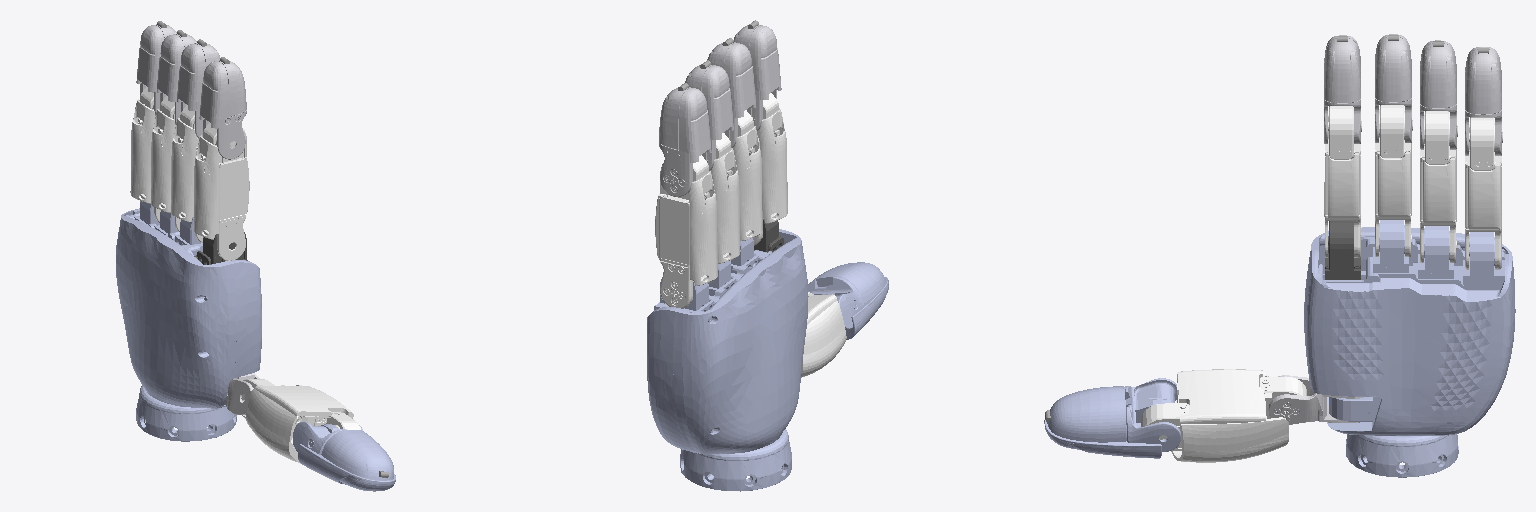
robot.urdf — panda_xhand_hand_left:
<?xml version='1.0' encoding='utf-8'?>
<robot name="panda_xhand_hand_left">

  
  <link name="base_link" />
  <joint name="left_hand_fixed_joint" type="fixed">
    <origin xyz="0 0 0" rpy="3.141592654 5.358979317e-08 -1.570802654" />
    <parent link="base_link" />
    <child link="left_hand_link" />
  </joint>
  <link name="left_hand_link">
    <inertial>
      <origin xyz="-0.007139696005 -0.003422435933 -0.05848067312" rpy="0 0 0" />
      <mass value="0.530025137189824" />
      <inertia ixx="0.000480675299127658" ixy="5.707743504e-06" ixz="-3.94757992682007E-05" iyy="0.000677544052393642" iyz="-4.84926198e-06" izz="0.000346610500441846" />
    </inertial>
    <visual>
      <origin xyz="0 0 0" rpy="0 0 0" />
      <geometry>
        <mesh filename="../xhand_hand_meshes/left_hand_link.STL" />
      </geometry>
      <material name="">
        <color rgba="0.792156862745098 0.819607843137255 0.933333333333333 1" />
      </material>
    </visual>
    <collision>
      <origin xyz="0 0 0" rpy="0 0 0" />
      <geometry>
        <mesh filename="../xhand_hand_meshes/left_hand_link.STL" />
      </geometry>
    </collision>
  </link>
  <link name="left_hand_ee_link">
    <inertial>
      <origin xyz="0 0 0" rpy="0 0 0" />
      <mass value="3.53429173528852E-08" />
      <inertia ixx="3.97607820219958E-14" ixy="-4.749097464e-29" ixz="1.39310580749999E-28" iyy="9.35114688295087E-14" iyz="-1.370371595e-41" izz="9.35114688295087E-14" />
    </inertial>
    <visual>
      <origin xyz="0 0 0" rpy="0 0 0" />
      <geometry>
        <mesh filename="../xhand_hand_meshes/left_hand_ee_link.STL" />
      </geometry>
      <material name="">
        <color rgba="0.698039215686274 0.698039215686274 0.698039215686274 1" />
      </material>
    </visual>
    <collision>
      <origin xyz="0 0 0" rpy="0 0 0" />
      <geometry>
        <mesh filename="../xhand_hand_meshes/left_hand_ee_link.STL" />
      </geometry>
    </collision>
  </link>
  <joint name="left_hand_ee_joint" type="fixed">
    <origin xyz="0 0 -0.065" rpy="0 0 0" />
    <parent link="left_hand_link" />
    <child link="left_hand_ee_link" />
    <axis xyz="0 0 0" />
  </joint>
  <link name="left_hand_thumb_bend_link">
    <inertial>
      <origin xyz="0.01452908013 0.000901302744 -0.0001279257288" rpy="0 0 0" />
      <mass value="0.0098552942780609" />
      <inertia ixx="5.42973961076784E-07" ixy="-1.169737782e-08" ixz="-3.74480550329303E-08" iyy="1.29129949885877E-06" iyz="-1.549186672e-09" izz="1.30457450474268E-06" />
    </inertial>
    <visual>
      <origin xyz="0 0 0" rpy="0 0 0" />
      <geometry>
        <mesh filename="../xhand_hand_meshes/left_hand_thumb_bend_link.STL" />
      </geometry>
      <material name="">
        <color rgba="0.890196078431372 0.890196078431372 0.913725490196078 1" />
      </material>
    </visual>
    <collision>
      <origin xyz="0 0 0" rpy="0 0 0" />
      <geometry>
        <mesh filename="../xhand_hand_meshes/left_hand_thumb_bend_link.STL" />
      </geometry>
    </collision>
  </link>
  <joint name="left_hand_thumb_bend_joint" type="revolute">
    <origin xyz="0.0228 -0.0095 -0.0305" rpy="0 0 0" />
    <parent link="left_hand_link" />
    <child link="left_hand_thumb_bend_link" />
    <axis xyz="0 0 -1" />
    <limit lower="0" upper="1.83" effort="1.1" velocity="8.63" />
    <dynamics damping="1" friction="1" />
  </joint>
  <link name="left_hand_thumb_rota_link1">
    <inertial>
      <origin xyz="0.02792371607 0.0001276028681 -0.0002725773618" rpy="0 0 0" />
      <mass value="0.153264803291678" />
      <inertia ixx="2.4165365258545E-05" ixy="6.631973585e-06" ixz="1.94475216115701E-07" iyy="4.72108607465942E-05" iyz="1.019315614e-07" izz="5.62288901300273E-05" />
    </inertial>
    <visual>
      <origin xyz="0 0 0" rpy="0 0 0" />
      <geometry>
        <mesh filename="../xhand_hand_meshes/left_hand_thumb_rota_link1.STL" />
      </geometry>
      <material name="">
        <color rgba="1 1 1 1" />
      </material>
    </visual>
    <collision>
      <origin xyz="0 0 0" rpy="0 0 0" />
      <geometry>
        <mesh filename="../xhand_hand_meshes/left_hand_thumb_rota_link1.STL" />
      </geometry>
    </collision>
  </link>
  <joint name="left_hand_thumb_rota_joint1" type="revolute">
    <origin xyz="0.028599 -0.0083177 0.00178" rpy="-0.2618 0 -0.0407" />
    <parent link="left_hand_thumb_bend_link" />
    <child link="left_hand_thumb_rota_link1" />
    <axis xyz="0 1 0" />
    <limit lower="-1.05" upper="1.57" effort="1.1" velocity="8.63" />
    <dynamics damping="1" friction="1" />
  </joint>
  <link name="left_hand_thumb_rota_link2">
    <inertial>
      <origin xyz="0.02246971871 0.0006913422256 0.003022320469" rpy="0 0 0" />
      <mass value="0.0374003730407777" />
      <inertia ixx="3.98187483395831E-06" ixy="4.946362977e-07" ixz="1.48034880030095E-07" iyy="8.21760971089748E-06" iyz="5.853881022e-08" izz="9.53856476569885E-06" />
    </inertial>
    <visual>
      <origin xyz="0 0 0" rpy="0 0 0" />
      <geometry>
        <mesh filename="../xhand_hand_meshes/left_hand_thumb_rota_link2.STL" />
      </geometry>
      <material name="">
        <color rgba="0.792156862745098 0.819607843137255 0.933333333333333 1" />
      </material>
    </visual>
    <collision>
      <origin xyz="0 0 0" rpy="0 0 0" />
      <geometry>
        <mesh filename="../xhand_hand_meshes/left_hand_thumb_rota_link2.STL" />
      </geometry>
    </collision>
  </link>
  <joint name="left_hand_thumb_rota_joint2" type="revolute">
    <origin xyz="0.0553 0 0" rpy="0 0 0" />
    <parent link="left_hand_thumb_rota_link1" />
    <child link="left_hand_thumb_rota_link2" />
    <axis xyz="0 1 0" />
    <limit lower="-0.175" upper="1.83" effort="0.4" velocity="14.38" />
    <dynamics damping="1" friction="1" />
  </joint>
  <link name="left_hand_thumb_rota_tip">
    <inertial>
      <origin xyz="8.286807351e-10 8.244566738e-09 0" rpy="0 0 0" />
      <mass value="3.53429173528852E-08" />
      <inertia ixx="9.35114688295028E-14" ixy="-1.781686322e-20" ixz="5.02898827078395E-30" iyy="3.97607820220018E-14" iyz="6.547545513e-29" izz="9.35114688295088E-14" />
    </inertial>
    <visual>
      <origin xyz="0 0 0" rpy="0 0 0" />
      <geometry>
        <mesh filename="../xhand_hand_meshes/left_hand_thumb_rota_tip.STL" />
      </geometry>
      <material name="">
        <color rgba="0.698039215686274 0.698039215686274 0.698039215686274 1" />
      </material>
    </visual>
    <collision>
      <origin xyz="0 0 0" rpy="0 0 0" />
      <geometry>
        <mesh filename="../xhand_hand_meshes/left_hand_thumb_rota_tip.STL" />
      </geometry>
    </collision>
  </link>
  <joint name="left_hand_thumb_rota_joint3" type="fixed">
    <origin xyz="0.05040245469 0 0" rpy="0 0 0" />
    <parent link="left_hand_thumb_rota_link2" />
    <child link="left_hand_thumb_rota_tip" />
    <axis xyz="0 0 0" />
  </joint>
  <link name="left_hand_index_bend_link">
    <inertial>
      <origin xyz="8.084488025e-05 -0.0006758840629 0.004208510492" rpy="0 0 0" />
      <mass value="0.0677836037392839" />
      <inertia ixx="2.16567127431793E-05" ixy="-9.291777674e-09" ixz="2.1345292815894E-07" iyy="2.09689353738481E-05" iyz="6.686769225e-07" izz="3.39593434952634E-06" />
    </inertial>
    <visual>
      <origin xyz="0 0 0" rpy="0 0 0" />
      <geometry>
        <mesh filename="../xhand_hand_meshes/left_hand_index_bend_link.STL" />
      </geometry>
      <material name="">
        <color rgba="0.43921568627451 0.43921568627451 0.43921568627451 1" />
      </material>
    </visual>
    <collision>
      <origin xyz="0 0 0" rpy="0 0 0" />
      <geometry>
        <mesh filename="../xhand_hand_meshes/left_hand_index_bend_link.STL" />
      </geometry>
    </collision>
  </link>
  <joint name="left_hand_index_bend_joint" type="revolute">
    <origin xyz="0.0265 -0.0065 -0.0899" rpy="0 0 0" />
    <parent link="left_hand_link" />
    <child link="left_hand_index_bend_link" />
    <axis xyz="0 1 0" />
    <limit lower="-0.175" upper="0.175" effort="0.4" velocity="14.38" />
    <dynamics damping="1" friction="1" />
  </joint>
  <link name="left_hand_index_rota_link1">
    <inertial>
      <origin xyz="-0.0001397695293 0.0008005173406 -0.03560385544" rpy="0 0 0" />
      <mass value="0.0630216027459696" />
      <inertia ixx="2.05187473304044E-05" ixy="-7.8020352e-09" ixz="4.29054958401514E-07" iyy="1.92422623666435E-05" iyz="-2.470283359e-07" izz="4.15027364465252E-06" />
    </inertial>
    <visual>
      <origin xyz="0 0 0" rpy="0 0 0" />
      <geometry>
        <mesh filename="../xhand_hand_meshes/left_hand_index_rota_link1.STL" />
      </geometry>
      <material name="">
        <color rgba="1 1 1 1" />
      </material>
    </visual>
    <collision>
      <origin xyz="0 0 0" rpy="0 0 0" />
      <geometry>
        <mesh filename="../xhand_hand_meshes/left_hand_index_rota_link1.STL" />
      </geometry>
    </collision>
  </link>
  <joint name="left_hand_index_joint1" type="revolute">
    <origin xyz="0 0 -0.0178" rpy="0 0 0" />
    <parent link="left_hand_index_bend_link" />
    <child link="left_hand_index_rota_link1" />
    <axis xyz="-1 0 0" />
    <limit lower="0" upper="1.92" effort="1.1" velocity="8.63" />
    <dynamics damping="1" friction="1" />
  </joint>
  <link name="left_hand_index_rota_link2">
    <inertial>
      <origin xyz="-0.0003385694092 -1.936760005e-05 -0.02313285391" rpy="0 0 0" />
      <mass value="0.0179923076356481" />
      <inertia ixx="3.01810066952146E-06" ixy="4.9212671e-10" ixz="9.0999129965313E-08" iyy="3.01983543305207E-06" iyz="-5.999000211e-08" izz="9.88538897829343E-07" />
    </inertial>
    <visual>
      <origin xyz="0 0 0" rpy="0 0 0" />
      <geometry>
        <mesh filename="../xhand_hand_meshes/left_hand_index_rota_link2.STL" />
      </geometry>
      <material name="">
        <color rgba="0.866666666666667 0.866666666666667 0.890196078431372 1" />
      </material>
    </visual>
    <collision>
      <origin xyz="0 0 0" rpy="0 0 0" />
      <geometry>
        <mesh filename="../xhand_hand_meshes/left_hand_index_rota_link2.STL" />
      </geometry>
    </collision>
  </link>
  <joint name="left_hand_index_joint2" type="revolute">
    <origin xyz="0 0 -0.0558" rpy="0 0 0" />
    <parent link="left_hand_index_rota_link1" />
    <child link="left_hand_index_rota_link2" />
    <axis xyz="-1 0 0" />
    <limit lower="0" upper="1.92" effort="0.4" velocity="14.38" />
    <dynamics damping="1" friction="1" />
  </joint>
  <link name="left_hand_index_rota_tip">
    <inertial>
      <origin xyz="0 0 0" rpy="0 0 0" />
      <mass value="3.53429173528852E-08" />
      <inertia ixx="3.97607820219958E-14" ixy="-4.318274229e-29" ixz="1.6690203866884E-29" iyy="9.35114688295087E-14" iyz="-1.378877689e-41" izz="9.35114688295087E-14" />
    </inertial>
    <visual>
      <origin xyz="0 0 0" rpy="0 0 0" />
      <geometry>
        <mesh filename="../xhand_hand_meshes/left_hand_index_rota_tip.STL" />
      </geometry>
      <material name="">
        <color rgba="0.698039215686274 0.698039215686274 0.698039215686274 1" />
      </material>
    </visual>
    <collision>
      <origin xyz="0 0 0" rpy="0 0 0" />
      <geometry>
        <mesh filename="../xhand_hand_meshes/left_hand_index_rota_tip.STL" />
      </geometry>
    </collision>
  </link>
  <joint name="left_hand_index_rota_joint3" type="fixed">
    <origin xyz="0 0 -0.0425" rpy="0 0 0" />
    <parent link="left_hand_index_rota_link2" />
    <child link="left_hand_index_rota_tip" />
    <axis xyz="0 0 0" />
  </joint>
  <link name="left_hand_mid_link1">
    <inertial>
      <origin xyz="-0.0001397694523 0.0008005169666 -0.0356038562" rpy="0 0 0" />
      <mass value="0.0630216005457211" />
      <inertia ixx="2.05187463723375E-05" ixy="-7.802084911e-09" ixz="4.29054729251827E-07" iyy="1.92422616109533E-05" iyz="-2.470278983e-07" izz="4.15027334868904E-06" />
    </inertial>
    <visual>
      <origin xyz="0 0 0" rpy="0 0 0" />
      <geometry>
        <mesh filename="../xhand_hand_meshes/left_hand_mid_link1.STL" />
      </geometry>
      <material name="">
        <color rgba="1 1 1 1" />
      </material>
    </visual>
    <collision>
      <origin xyz="0 0 0" rpy="0 0 0" />
      <geometry>
        <mesh filename="../xhand_hand_meshes/left_hand_mid_link1.STL" />
      </geometry>
    </collision>
  </link>
  <joint name="left_hand_mid_joint1" type="revolute">
    <origin xyz="0.004 -0.0065 -0.1082" rpy="0 0 0" />
    <parent link="left_hand_link" />
    <child link="left_hand_mid_link1" />
    <axis xyz="-1 0 0" />
    <limit lower="0" upper="1.92" effort="1.1" velocity="8.63" />
    <dynamics damping="1" friction="1" />
  </joint>
  <link name="left_hand_mid_link2">
    <inertial>
      <origin xyz="-0.0003385694106 -1.936760027e-05 -0.02313285391" rpy="0 0 0" />
      <mass value="0.0179923076388667" />
      <inertia ixx="3.01810066972044E-06" ixy="4.921265976e-10" ixz="9.09991296960493E-08" iyy="3.01983543347029E-06" iyz="-5.999000211e-08" izz="9.88538897954892E-07" />
    </inertial>
    <visual>
      <origin xyz="0 0 0" rpy="0 0 0" />
      <geometry>
        <mesh filename="../xhand_hand_meshes/left_hand_mid_link2.STL" />
      </geometry>
      <material name="">
        <color rgba="0.866666666666667 0.866666666666667 0.890196078431372 1" />
      </material>
    </visual>
    <collision>
      <origin xyz="0 0 0" rpy="0 0 0" />
      <geometry>
        <mesh filename="../xhand_hand_meshes/left_hand_mid_link2.STL" />
      </geometry>
    </collision>
  </link>
  <joint name="left_hand_mid_joint2" type="revolute">
    <origin xyz="0 0 -0.0558" rpy="0 0 0" />
    <parent link="left_hand_mid_link1" />
    <child link="left_hand_mid_link2" />
    <axis xyz="-1 0 0" />
    <limit lower="0" upper="1.94" effort="0.4" velocity="14.38" />
    <dynamics damping="1" friction="1" />
  </joint>
  <link name="left_hand_mid_tip">
    <inertial>
      <origin xyz="0 0 -0.0003930268892" rpy="0 0 0" />
      <mass value="3.53429173528852E-08" />
      <inertia ixx="3.97607820219958E-14" ixy="-4.69980914e-29" ixz="1.72625026613961E-29" iyy="9.35114688295087E-14" iyz="1.346322612e-30" izz="9.35114688295087E-14" />
    </inertial>
    <visual>
      <origin xyz="0 0 0" rpy="0 0 0" />
      <geometry>
        <mesh filename="../xhand_hand_meshes/left_hand_mid_tip.STL" />
      </geometry>
      <material name="">
        <color rgba="0.698039215686274 0.698039215686274 0.698039215686274 1" />
      </material>
    </visual>
    <collision>
      <origin xyz="0 0 0" rpy="0 0 0" />
      <geometry>
        <mesh filename="../xhand_hand_meshes/left_hand_mid_tip.STL" />
      </geometry>
    </collision>
  </link>
  <joint name="left_hand_mid_joint3" type="fixed">
    <origin xyz="0 0 -0.042107" rpy="0 0 0" />
    <parent link="left_hand_mid_link2" />
    <child link="left_hand_mid_tip" />
    <axis xyz="0 0 0" />
  </joint>
  <link name="left_hand_ring_link1">
    <inertial>
      <origin xyz="-0.0001397695943 0.0008005172273 -0.03560385528" rpy="0 0 0" />
      <mass value="0.0630216021699602" />
      <inertia ixx="2.05187476755252E-05" ixy="-7.80199294e-09" ixz="4.29055082722493E-07" iyy="1.92422628261764E-05" iyz="-2.470284877e-07" izz="4.15027358505553E-06" />
    </inertial>
    <visual>
      <origin xyz="0 0 0" rpy="0 0 0" />
      <geometry>
        <mesh filename="../xhand_hand_meshes/left_hand_ring_link1.STL" />
      </geometry>
      <material name="">
        <color rgba="1 1 1 1" />
      </material>
    </visual>
    <collision>
      <origin xyz="0 0 0" rpy="0 0 0" />
      <geometry>
        <mesh filename="../xhand_hand_meshes/left_hand_ring_link1.STL" />
      </geometry>
    </collision>
  </link>
  <joint name="left_hand_ring_joint1" type="revolute">
    <origin xyz="-0.016 -0.0065 -0.1052" rpy="0 0 0" />
    <parent link="left_hand_link" />
    <child link="left_hand_ring_link1" />
    <axis xyz="-1 0 0" />
    <limit lower="0" upper="1.92" effort="1.1" velocity="8.63" />
    <dynamics damping="1" friction="1" />
  </joint>
  <link name="left_hand_ring_link2">
    <inertial>
      <origin xyz="-0.0003385729249 -1.936220965e-05 -0.02313284781" rpy="0 0 0" />
      <mass value="0.0179922978524175" />
      <inertia ixx="3.01809858290111E-06" ixy="4.916200074e-10" ixz="9.09983307330798E-08" iyy="3.01983382489043E-06" iyz="-5.998898232e-08" izz="9.88537681686488E-07" />
    </inertial>
    <visual>
      <origin xyz="0 0 0" rpy="0 0 0" />
      <geometry>
        <mesh filename="../xhand_hand_meshes/left_hand_ring_link2.STL" />
      </geometry>
      <material name="">
        <color rgba="0.866666666666667 0.866666666666667 0.890196078431372 1" />
      </material>
    </visual>
    <collision>
      <origin xyz="0 0 0" rpy="0 0 0" />
      <geometry>
        <mesh filename="../xhand_hand_meshes/left_hand_ring_link2.STL" />
      </geometry>
    </collision>
  </link>
  <joint name="left_hand_ring_joint2" type="revolute">
    <origin xyz="0 0 -0.0558" rpy="0 0 0" />
    <parent link="left_hand_ring_link1" />
    <child link="left_hand_ring_link2" />
    <axis xyz="-1 0 0" />
    <limit lower="0" upper="1.92" effort="0.4" velocity="14.38" />
    <dynamics damping="1" friction="1" />
  </joint>
  <link name="left_hand_ring_tip">
    <inertial>
      <origin xyz="0 0 0" rpy="0 0 0" />
      <mass value="3.53429173528852E-08" />
      <inertia ixx="3.97607820219958E-14" ixy="-4.533685847e-29" ixz="1.6690203866884E-29" iyy="9.35114688295086E-14" iyz="-1.381119766e-41" izz="9.35114688295086E-14" />
    </inertial>
    <visual>
      <origin xyz="0 0 0" rpy="0 0 0" />
      <geometry>
        <mesh filename="../xhand_hand_meshes/left_hand_ring_tip.STL" />
      </geometry>
      <material name="">
        <color rgba="0.698039215686274 0.698039215686274 0.698039215686274 1" />
      </material>
    </visual>
    <collision>
      <origin xyz="0 0 0" rpy="0 0 0" />
      <geometry>
        <mesh filename="../xhand_hand_meshes/left_hand_ring_tip.STL" />
      </geometry>
    </collision>
  </link>
  <joint name="left_hand_ring_joint3" type="fixed">
    <origin xyz="0 0 -0.0425" rpy="0 0 0" />
    <parent link="left_hand_ring_link2" />
    <child link="left_hand_ring_tip" />
    <axis xyz="0 0 0" />
  </joint>
  <link name="left_hand_pinky_link1">
    <inertial>
      <origin xyz="-0.0001397691926 0.0008005168202 -0.03560385645" rpy="0 0 0" />
      <mass value="0.0630215991316208" />
      <inertia ixx="2.05187455958907E-05" ixy="-7.802229245e-09" ixz="4.29054564778114E-07" iyy="1.92422608092939E-05" iyz="-2.47027716e-07" izz="4.15027320974138E-06" />
    </inertial>
    <visual>
      <origin xyz="0 0 0" rpy="0 0 0" />
      <geometry>
        <mesh filename="../xhand_hand_meshes/left_hand_pinky_link1.STL" />
      </geometry>
      <material name="">
        <color rgba="1 1 1 1" />
      </material>
    </visual>
    <collision>
      <origin xyz="0 0 0" rpy="0 0 0" />
      <geometry>
        <mesh filename="../xhand_hand_meshes/left_hand_pinky_link1.STL" />
      </geometry>
    </collision>
  </link>
  <joint name="left_hand_pinky_joint1" type="revolute">
    <origin xyz="-0.036 -0.0065 -0.1022" rpy="0 0 0" />
    <parent link="left_hand_link" />
    <child link="left_hand_pinky_link1" />
    <axis xyz="-1 0 0" />
    <limit lower="0" upper="1.92" effort="1.1" velocity="8.63" />
    <dynamics damping="1" friction="1" />
  </joint>
  <link name="left_hand_pinky_link2">
    <inertial>
      <origin xyz="-0.0003385694147 -1.936759897e-05 -0.02313285392" rpy="0 0 0" />
      <mass value="0.0179923076462156" />
      <inertia ixx="3.0181006709957E-06" ixy="4.921264741e-10" ixz="9.0999128816634E-08" iyy="3.01983543495617E-06" iyz="-5.999000187e-08" izz="9.88538897929235E-07" />
    </inertial>
    <visual>
      <origin xyz="0 0 0" rpy="0 0 0" />
      <geometry>
        <mesh filename="../xhand_hand_meshes/left_hand_pinky_link2.STL" />
      </geometry>
      <material name="">
        <color rgba="0.866666666666667 0.866666666666667 0.890196078431372 1" />
      </material>
    </visual>
    <collision>
      <origin xyz="0 0 0" rpy="0 0 0" />
      <geometry>
        <mesh filename="../xhand_hand_meshes/left_hand_pinky_link2.STL" />
      </geometry>
    </collision>
  </link>
  <joint name="left_hand_pinky_joint2" type="revolute">
    <origin xyz="0 0 -0.0558" rpy="0 0 0" />
    <parent link="left_hand_pinky_link1" />
    <child link="left_hand_pinky_link2" />
    <axis xyz="-1 0 0" />
    <limit lower="0" upper="1.92" effort="0.4" velocity="14.38" />
    <dynamics damping="1" friction="1" />
  </joint>
  <link name="left_hand_pinky_tip">
    <inertial>
      <origin xyz="0 0 0" rpy="0 0 0" />
      <mass value="3.53429173528851E-08" />
      <inertia ixx="3.97607820219958E-14" ixy="-4.318274229e-29" ixz="1.66902038668838E-29" iyy="9.35114688295085E-14" iyz="-1.378877689e-41" izz="9.35114688295085E-14" />
    </inertial>
    <visual>
      <origin xyz="0 0 0" rpy="0 0 0" />
      <geometry>
        <mesh filename="../xhand_hand_meshes/left_hand_pinky_tip.STL" />
      </geometry>
      <material name="">
        <color rgba="0.698039215686274 0.698039215686274 0.698039215686274 1" />
      </material>
    </visual>
    <collision>
      <origin xyz="0 0 0" rpy="0 0 0" />
      <geometry>
        <mesh filename="../xhand_hand_meshes/left_hand_pinky_tip.STL" />
      </geometry>
    </collision>
  </link>
  <joint name="left_hand_pinky_joint3" type="fixed">
    <origin xyz="0 0 -0.0425" rpy="0 0 0" />
    <parent link="left_hand_pinky_link2" />
    <child link="left_hand_pinky_tip" />
    <axis xyz="0 0 0" />
  </joint>

</robot>

--- Facts derived from the render (not from the file) ---
Views: 3 orthographic renders of the robot side by side, from view 1: azimuth 30°, elevation 25°; view 2: azimuth 150°, elevation 25°; view 3: azimuth 270°, elevation 25°.
Robot: panda_xhand_hand_left — 20 links, 19 joints (12 revolute, 7 fixed); root link base_link; default pose: every joint at zero.
Visible links, largest first — view 1: left_hand_link, left_hand_index_rota_link1, left_hand_thumb_rota_link1, left_hand_thumb_rota_link2, left_hand_index_rota_link2, left_hand_mid_link1, left_hand_ring_link1, left_hand_pinky_link1, left_hand_mid_link2, left_hand_pinky_link2, left_hand_ring_link2, left_hand_thumb_bend_link (+1 smaller); view 2: left_hand_link, left_hand_pinky_link1, left_hand_pinky_link2, left_hand_thumb_rota_link2, left_hand_index_rota_link1, left_hand_mid_link1, left_hand_ring_link1, left_hand_thumb_rota_link1, left_hand_index_rota_link2, left_hand_ring_link2, left_hand_mid_link2, left_hand_index_bend_link; view 3: left_hand_link, left_hand_thumb_rota_link1, left_hand_thumb_rota_link2, left_hand_pinky_link1, left_hand_mid_link1, left_hand_ring_link1, left_hand_index_rota_link1, left_hand_pinky_link2, left_hand_ring_link2, left_hand_index_rota_link2, left_hand_mid_link2, left_hand_thumb_bend_link (+1 smaller).
Boxes of the visible links, left/top/right/bottom form: left_hand_link: left=116, top=201, right=261, bottom=441; left_hand_index_rota_link1: left=193, top=122, right=249, bottom=260; left_hand_thumb_rota_link1: left=241, top=379, right=361, bottom=463; left_hand_thumb_rota_link2: left=293, top=422, right=395, bottom=491; left_hand_index_rota_link2: left=199, top=60, right=246, bottom=159; left_hand_mid_link1: left=171, top=105, right=202, bottom=242; left_hand_ring_link1: left=151, top=96, right=180, bottom=231; left_hand_pinky_link1: left=130, top=86, right=160, bottom=222; left_hand_mid_link2: left=177, top=43, right=219, bottom=138; left_hand_pinky_link2: left=136, top=24, right=176, bottom=115; left_hand_ring_link2: left=157, top=34, right=196, bottom=124; left_hand_thumb_bend_link: left=224, top=373, right=259, bottom=414; left_hand_link: left=647, top=229, right=808, bottom=491; left_hand_pinky_link1: left=655, top=155, right=717, bottom=308; left_hand_pinky_link2: left=659, top=87, right=711, bottom=196; left_hand_thumb_rota_link2: left=808, top=262, right=888, bottom=339; left_hand_index_rota_link1: left=753, top=93, right=787, bottom=245; left_hand_mid_link1: left=731, top=110, right=762, bottom=261; left_hand_ring_link1: left=708, top=133, right=740, bottom=283; left_hand_thumb_rota_link1: left=801, top=292, right=846, bottom=377; left_hand_index_rota_link2: left=734, top=25, right=781, bottom=130; left_hand_ring_link2: left=685, top=65, right=733, bottom=170; left_hand_mid_link2: left=707, top=42, right=755, bottom=147; left_hand_index_bend_link: left=754, top=219, right=787, bottom=252; left_hand_link: left=1304, top=220, right=1515, bottom=477; left_hand_thumb_rota_link1: left=1141, top=369, right=1306, bottom=462; left_hand_thumb_rota_link2: left=1044, top=378, right=1181, bottom=458; left_hand_pinky_link1: left=1465, top=117, right=1501, bottom=269; left_hand_mid_link1: left=1375, top=105, right=1411, bottom=256; left_hand_ring_link1: left=1420, top=111, right=1456, bottom=262; left_hand_index_rota_link1: left=1324, top=106, right=1360, bottom=257; left_hand_pinky_link2: left=1465, top=47, right=1502, bottom=155; left_hand_ring_link2: left=1420, top=40, right=1457, bottom=149; left_hand_index_rota_link2: left=1324, top=35, right=1361, bottom=143; left_hand_mid_link2: left=1375, top=34, right=1412, bottom=142; left_hand_thumb_bend_link: left=1268, top=375, right=1363, bottom=424.
Bounding box of the posed robot: 0.0641 × 0.2091 × 0.208 m (x, y, z).
Meshes: 19 distinct files referenced, 19 mesh visuals loaded (19 binary STL).
